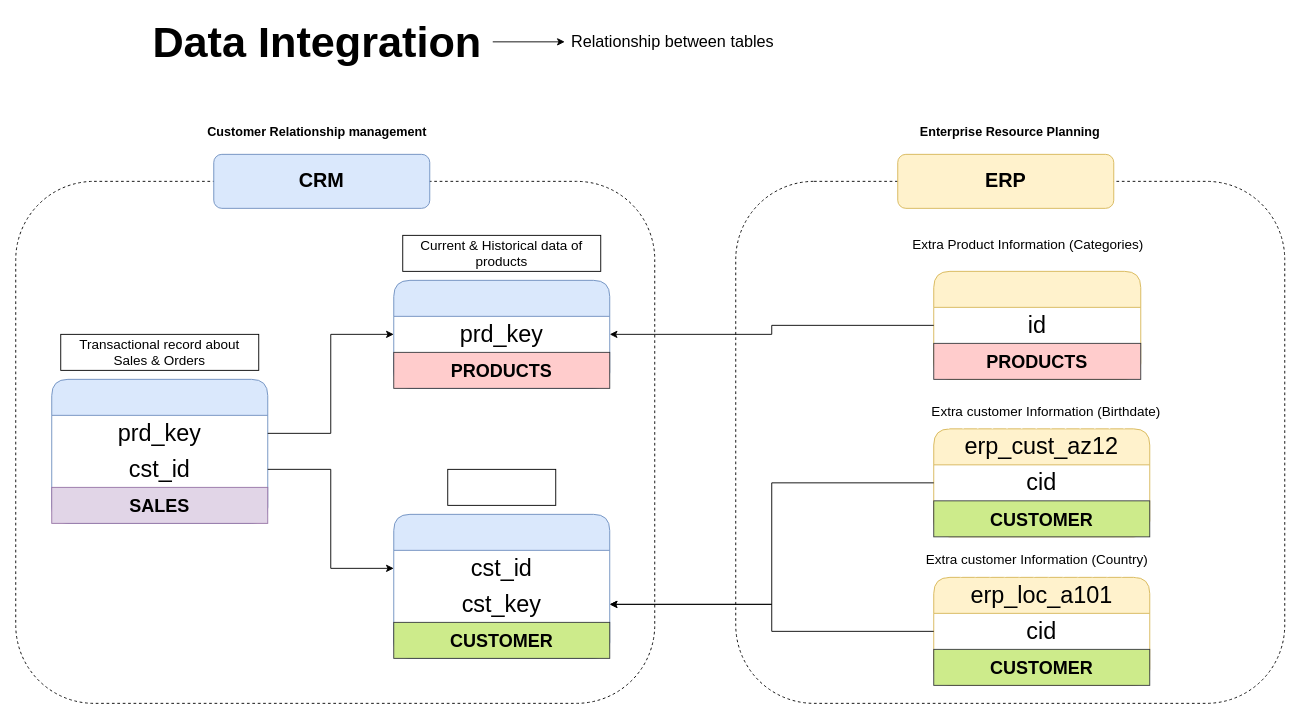
The diagram is 1301 pixels wide and 719 high, and some of its shapes have lost their labels. The box of each missing label's shape, as (x1, y1, x2, y2) in pixels:
crm_cust_info: (393, 513, 610, 658)
crm_prd_info: (393, 279, 610, 388)
crm_sales_details: (51, 378, 268, 523)
Customer Information: (447, 468, 556, 505)
erp_px_cat_g1v2: (933, 270, 1141, 379)
